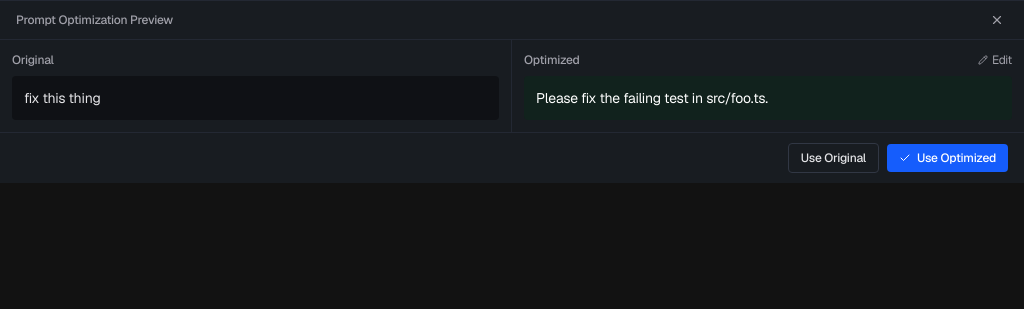
PromptDiffView › enters edit mode when Edit is clicked
This screenshot has width=1024, height=309.
Click the button "Edit": (995, 60) [978,52,1012,68]
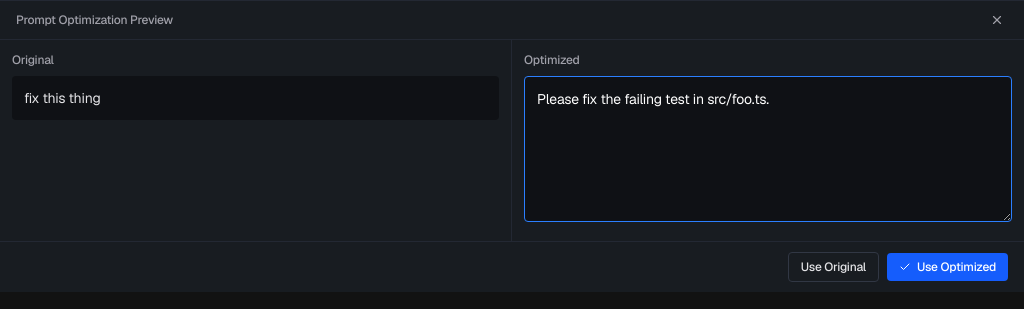
Expected: the text box is shown, [524,76,1012,222]
